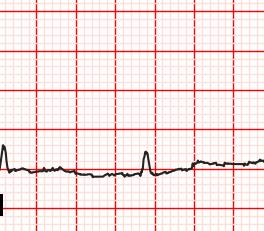Poor R Progression: (137, 149, 156, 178)
